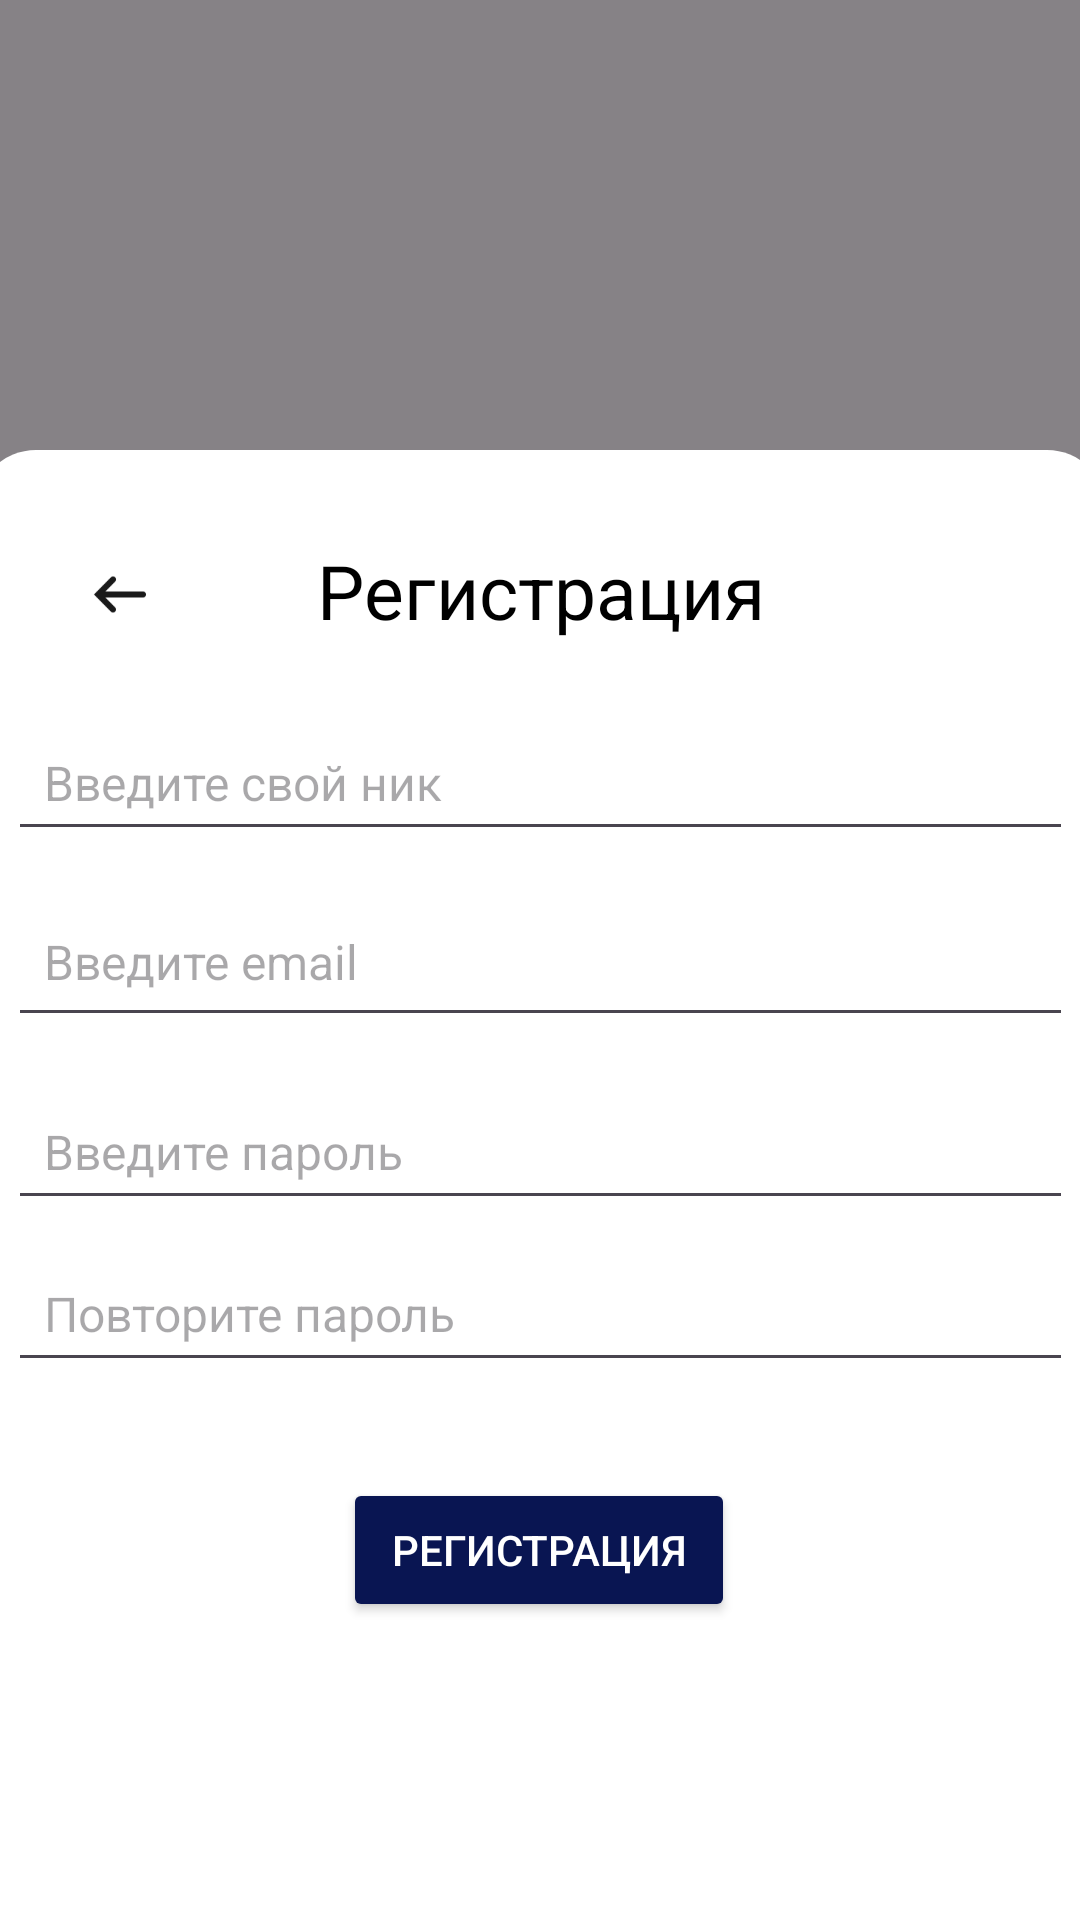

Icons on this 1080×1920 Android screen, each with its box as [x1=x1, y1=y1, x2=x2, y2=y2]:
back: [x1=94, y1=576, x2=146, y2=613]
